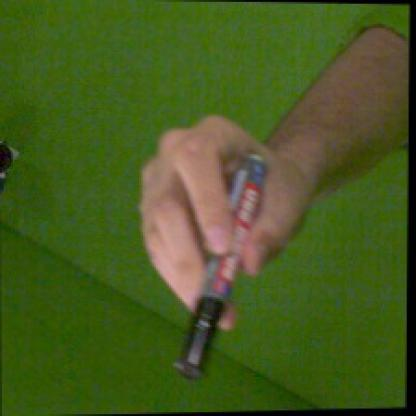Hand: (140, 120, 314, 332)
